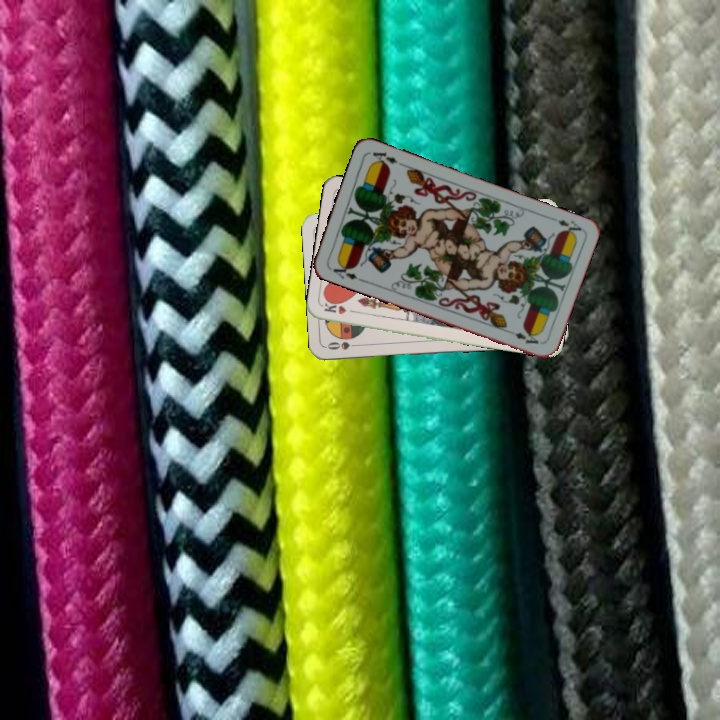EA: (545, 213, 584, 238), (326, 259, 360, 282)
HK: (320, 299, 361, 317)
SO: (323, 338, 364, 352)
